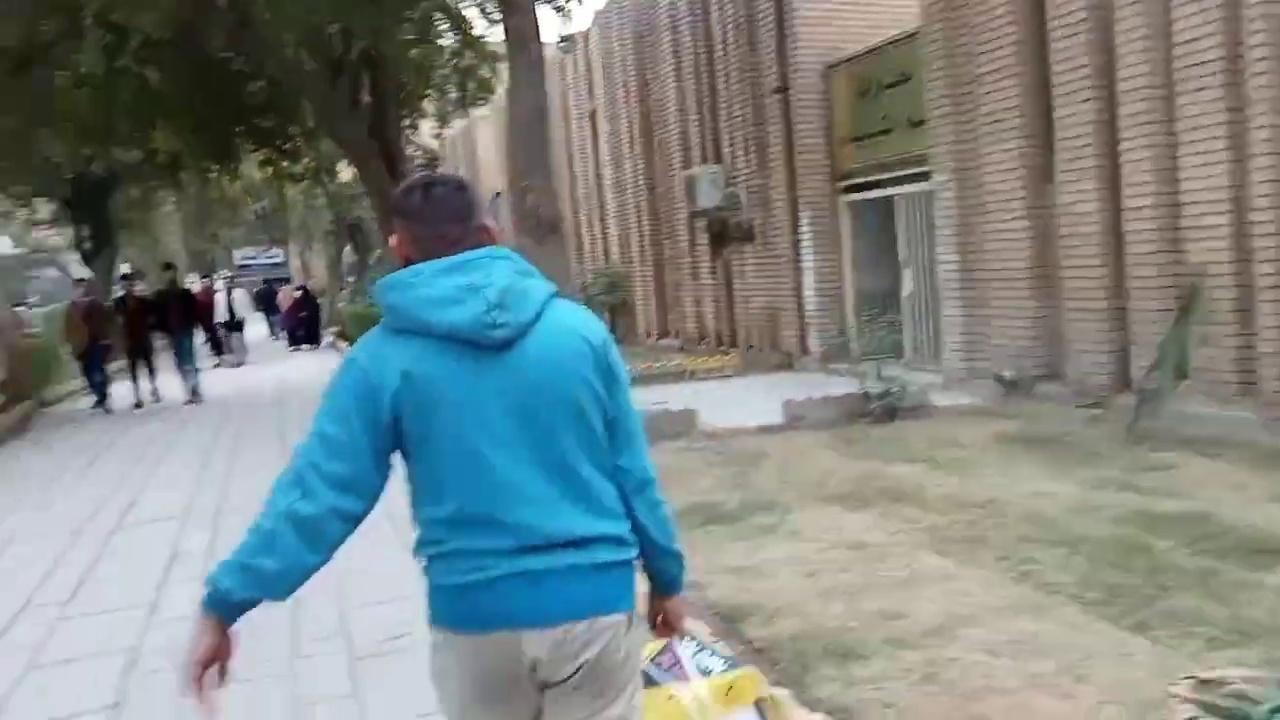person: (181, 169, 688, 719), (49, 273, 126, 421), (100, 264, 170, 406), (156, 264, 210, 401), (202, 268, 248, 366), (274, 286, 321, 346)
tree: (63, 0, 505, 332), (486, 0, 572, 278), (579, 261, 636, 342)
